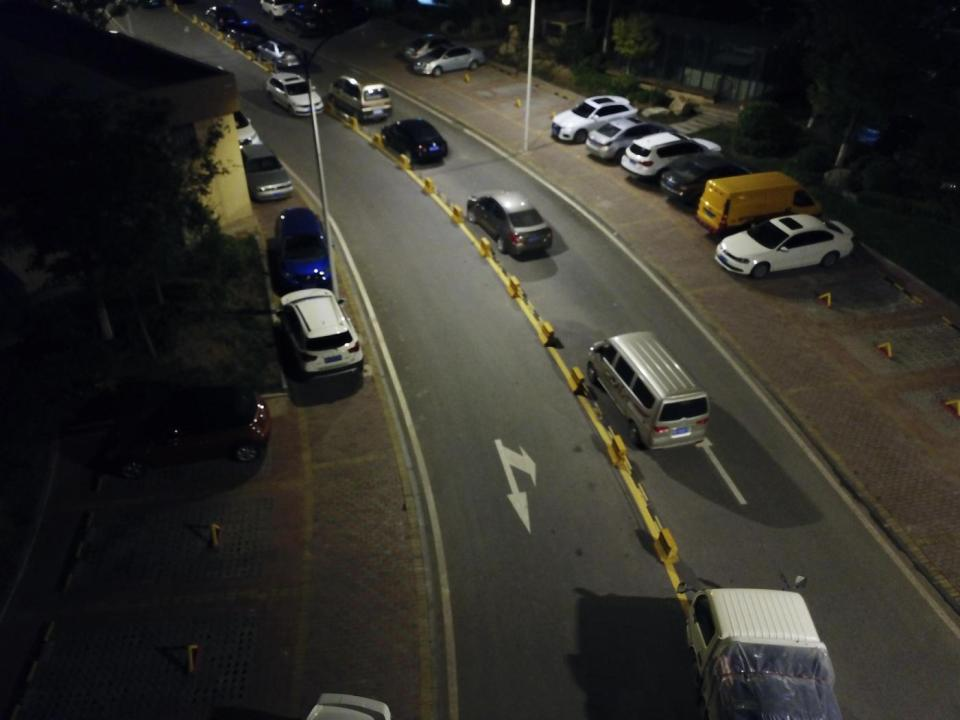car: (82, 381, 271, 475), (713, 212, 855, 280), (273, 283, 363, 381), (465, 189, 552, 257), (660, 148, 764, 204), (548, 92, 652, 143), (621, 129, 722, 180), (586, 114, 683, 166), (274, 207, 330, 288), (377, 112, 450, 171), (203, 94, 261, 154), (236, 141, 292, 203), (265, 71, 325, 120), (413, 42, 489, 77), (403, 34, 475, 65), (280, 1, 333, 40), (226, 16, 275, 54), (257, 38, 309, 68), (206, 3, 255, 29)
truck: (683, 587, 855, 720)
van: (586, 331, 710, 451), (694, 169, 826, 234), (327, 72, 393, 122)
